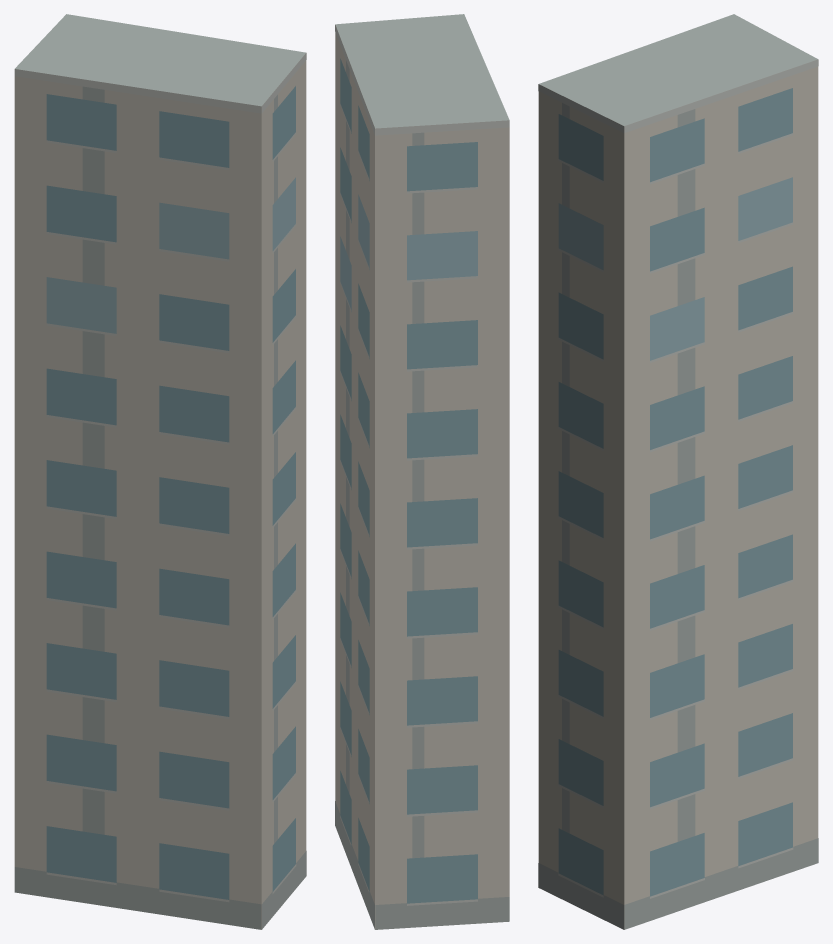
File: survey-upis-32697352.glb
3 renders of one model, left to right at view 1: azimuth 30°, elevation 25°; view 2: azimuth 150°, elevation 25°; view 3: azimuth 270°, elevation 25°, orthographic. The views are drawn at different scales.
Visible parts, largest first — view 1: survey-upis-32697352.tmp; view 2: survey-upis-32697352.tmp; view 3: survey-upis-32697352.tmp.
Boxes of the visible parts, x1,y1,x2,y2 form: survey-upis-32697352.tmp: (14, 14, 306, 929); survey-upis-32697352.tmp: (335, 14, 509, 929); survey-upis-32697352.tmp: (538, 14, 818, 929).
Size of the model in its own units: 8.23 by 27.45 by 8.67.
